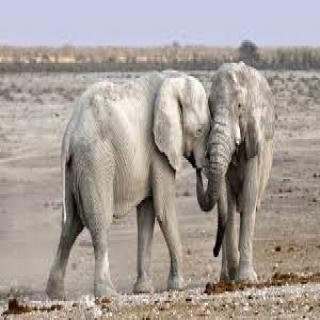Elephant: (44, 65, 215, 305), (198, 55, 278, 297)
